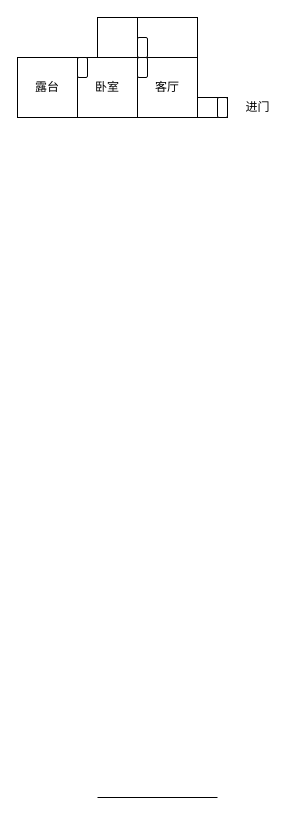
Some shapes in this 300 by 816 pixel diagram are drawn without their labels. The box of each missing label's shape, as (x1, y1, x2, y2) in pixels:
厕所: (96, 16, 138, 58)
厨房: (136, 16, 198, 58)
